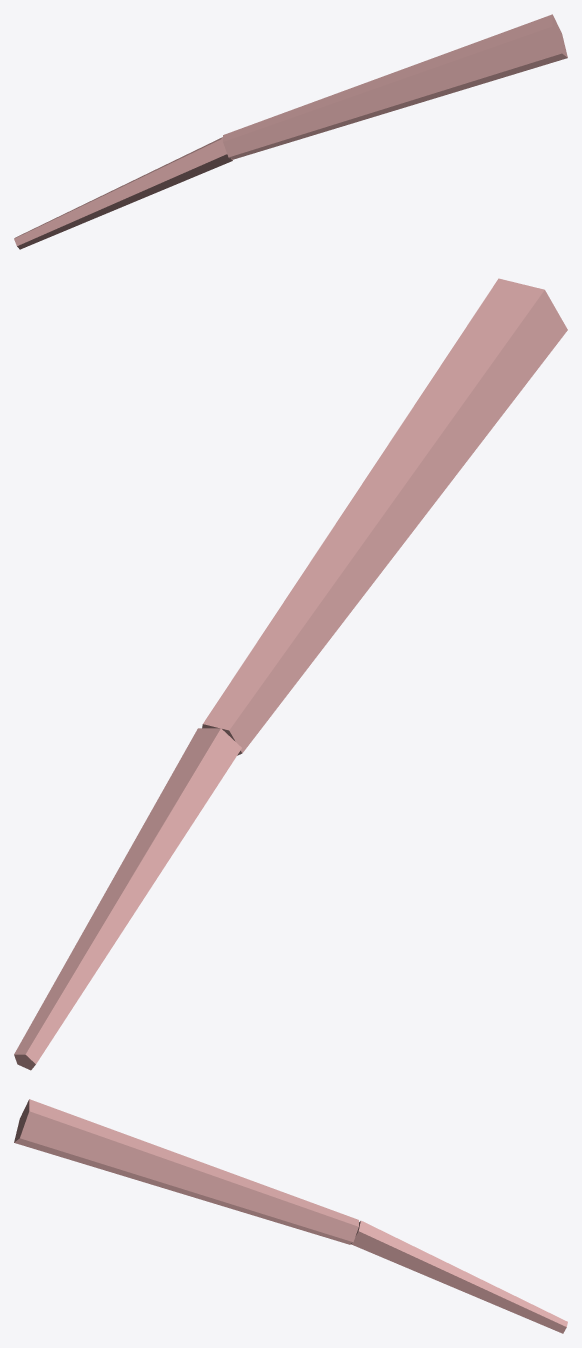
File: rat_1_tail.glb
3 renders of one model, top to bottom at view 1: azimuth 90°, elevation 25°; view 2: azimuth 150°, elevation 25°; view 3: azimuth 270°, elevation 25°, orthographic. The views are drawn at different scales.
Parts seen in each view (by area): view 1: rat_1_tail; view 2: rat_1_tail; view 3: rat_1_tail.
Boxes of the visible parts, x1,y1,x2,y2 form: rat_1_tail: (14, 14, 567, 249); rat_1_tail: (14, 278, 567, 1070); rat_1_tail: (14, 1099, 567, 1333).
Bounding box in the file's own units: 0.0266 × 0.144 × 0.3165.
